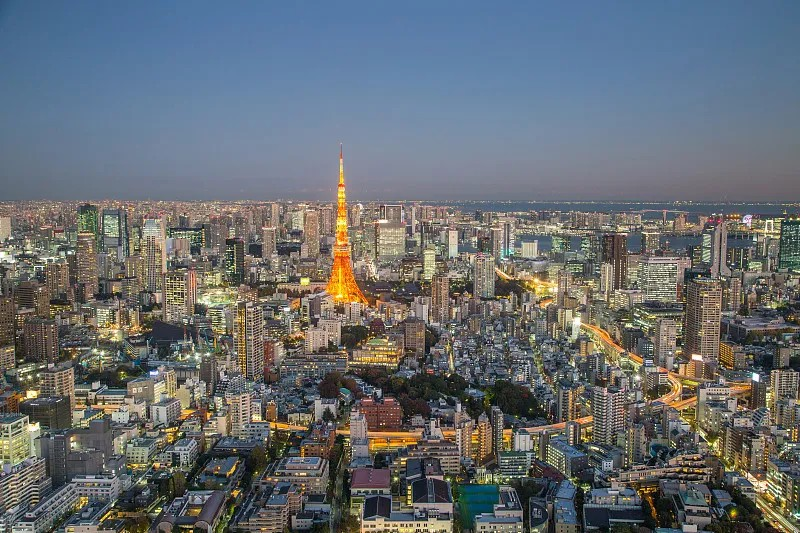Tokyo: (321, 140, 369, 307)
